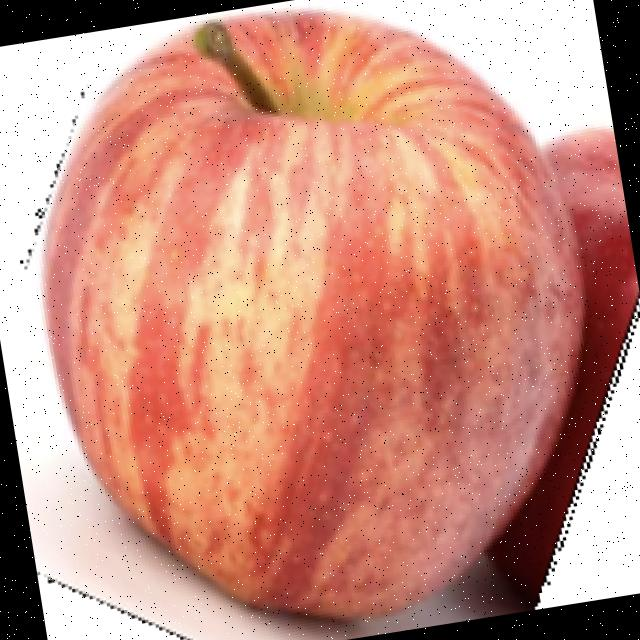apple: (19, 2, 640, 640)
